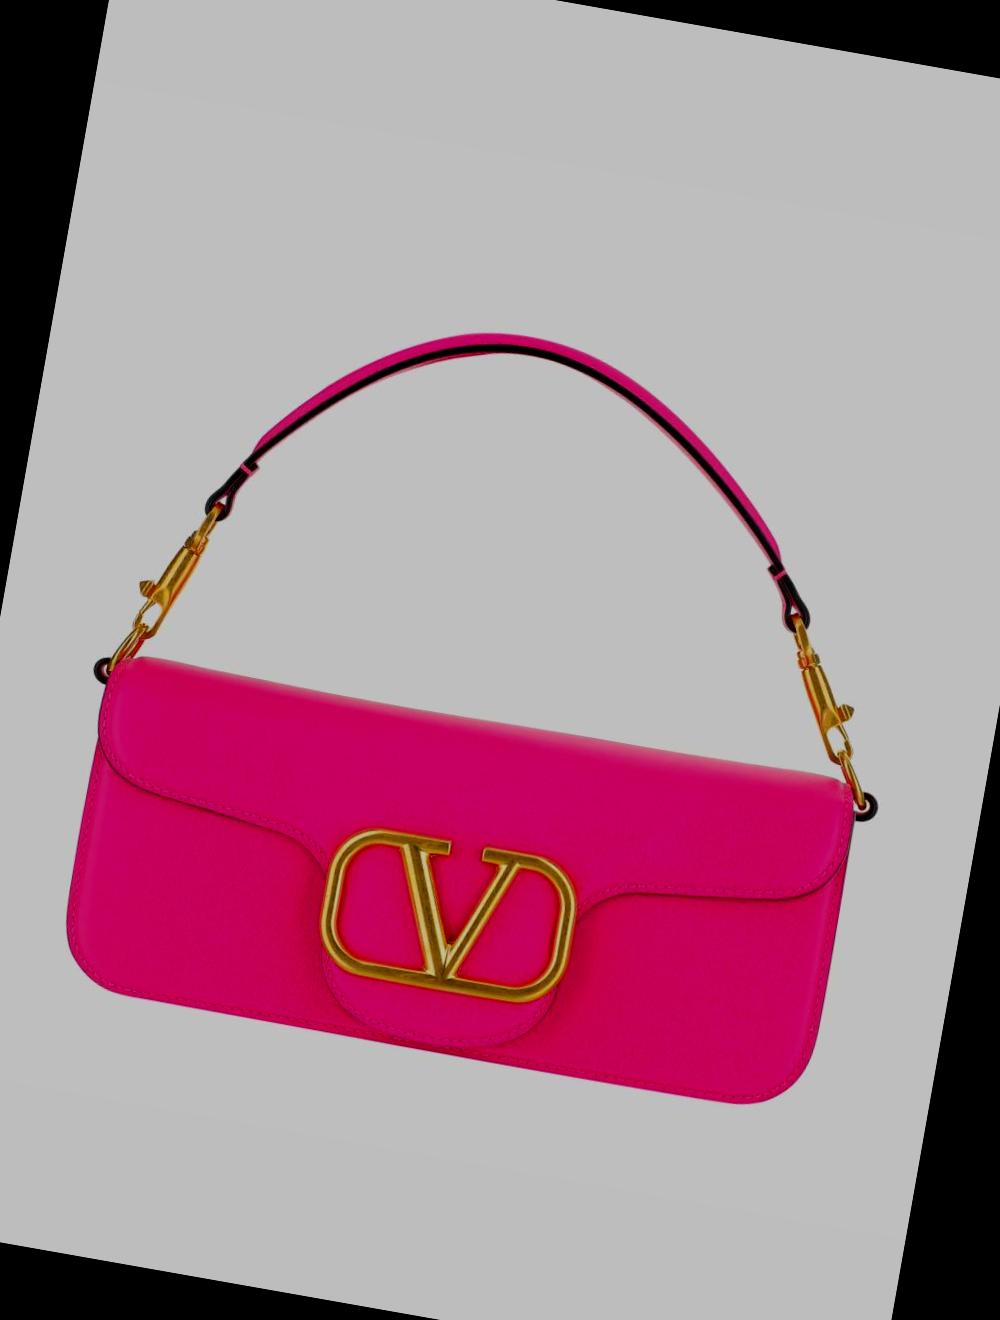VALENTINO: (313, 820, 584, 1010)
